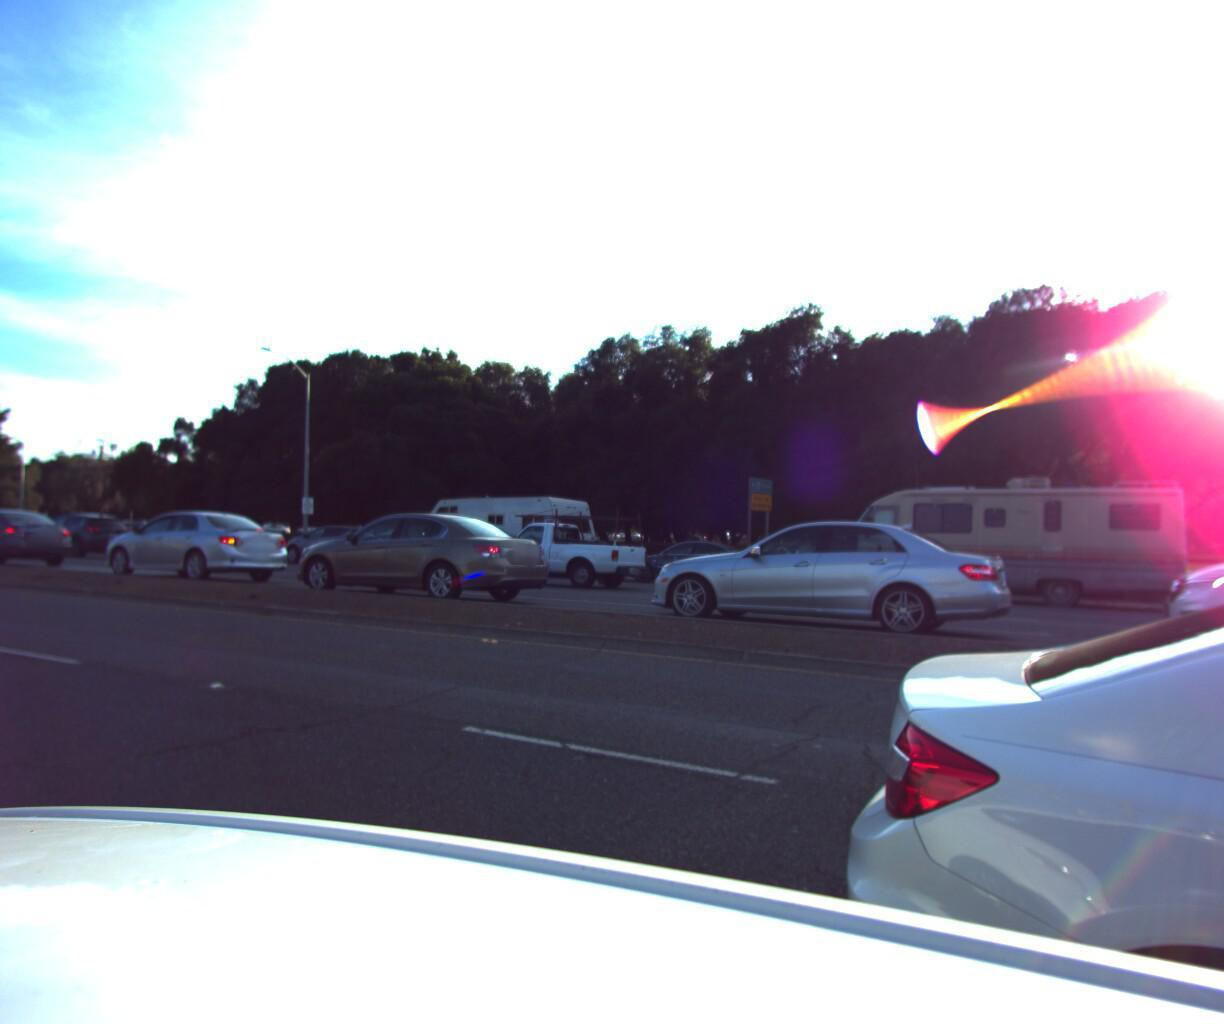car: (745, 527, 1224, 1024), (624, 509, 1019, 654), (265, 501, 566, 610), (1139, 487, 1224, 725), (85, 503, 299, 585), (462, 505, 653, 585), (609, 530, 771, 587), (0, 501, 137, 558), (271, 517, 390, 565), (0, 501, 81, 567), (62, 513, 151, 552)
other_vehicle: (815, 460, 1194, 615), (413, 487, 600, 576)
